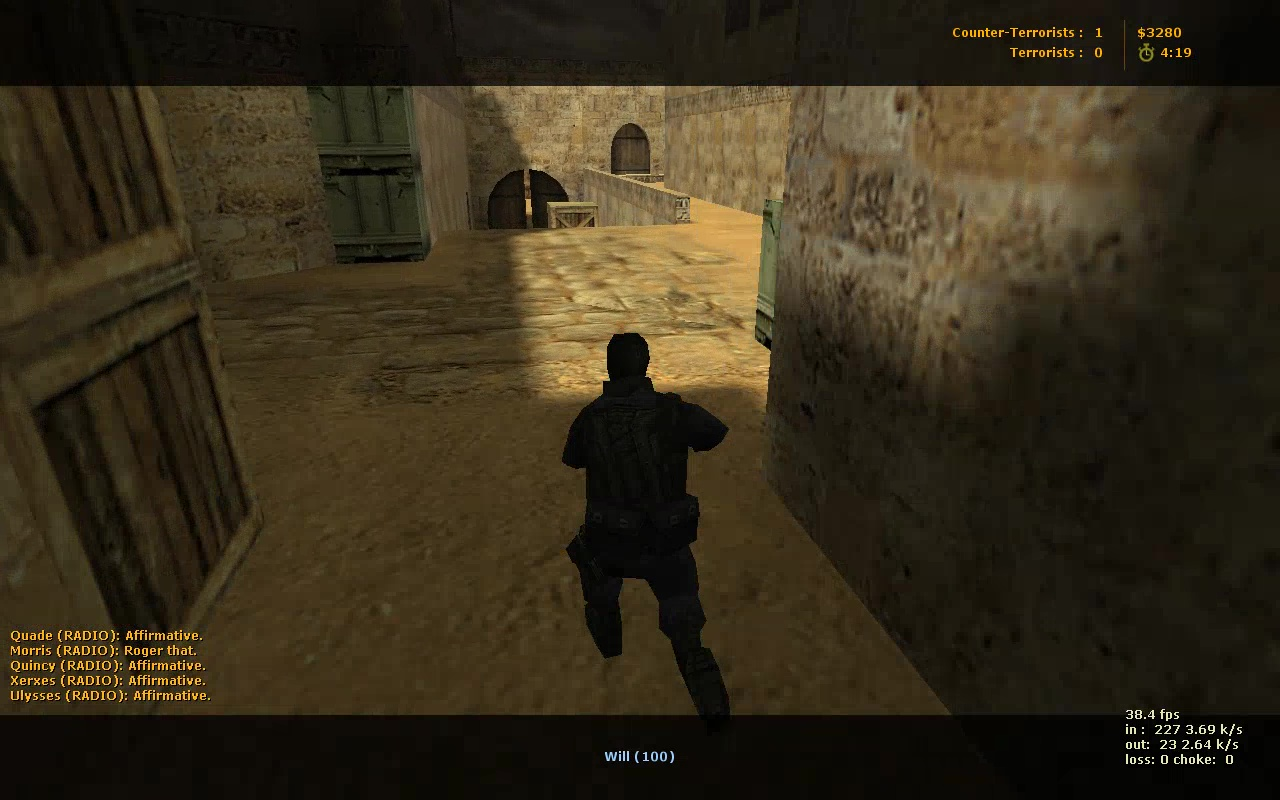ct: (555, 329, 731, 716)
